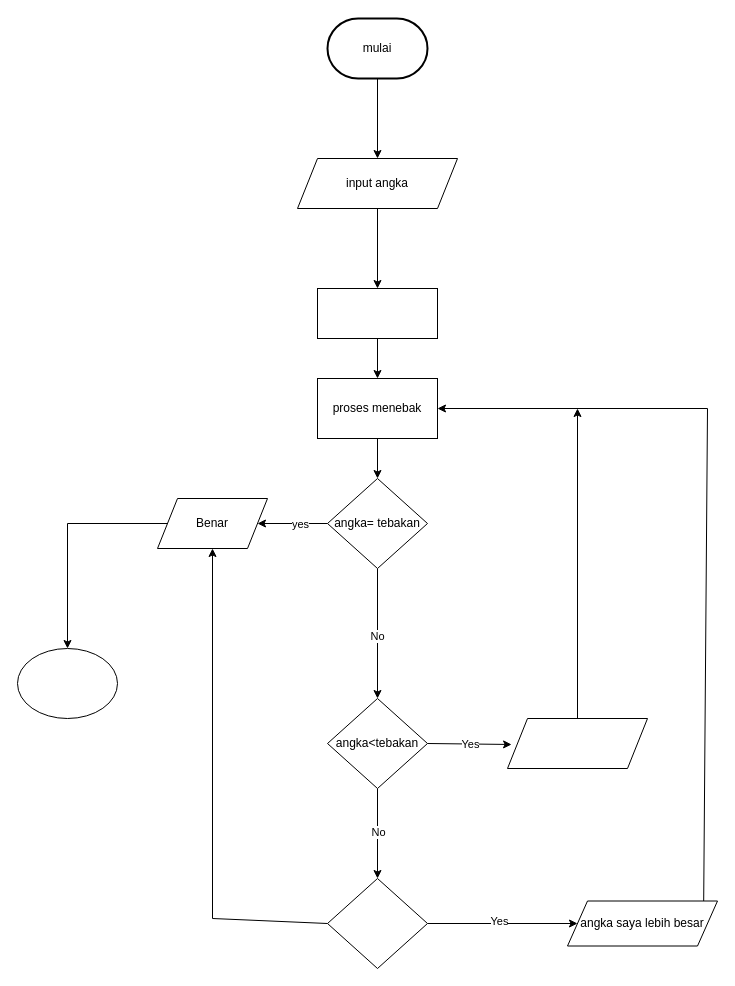
This 735x986 diagram has some shape labels left out. Here are the shapes that lost their labels. From the top down, the centre of each, then its label:
At point (377, 313): "tebakan".
At point (67, 683): "End".
At point (577, 743): "angka saya lebih kecil".
At point (377, 923): "angka>tebakan".
